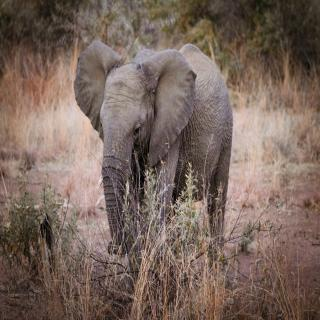Elephant: (71, 31, 234, 273)
